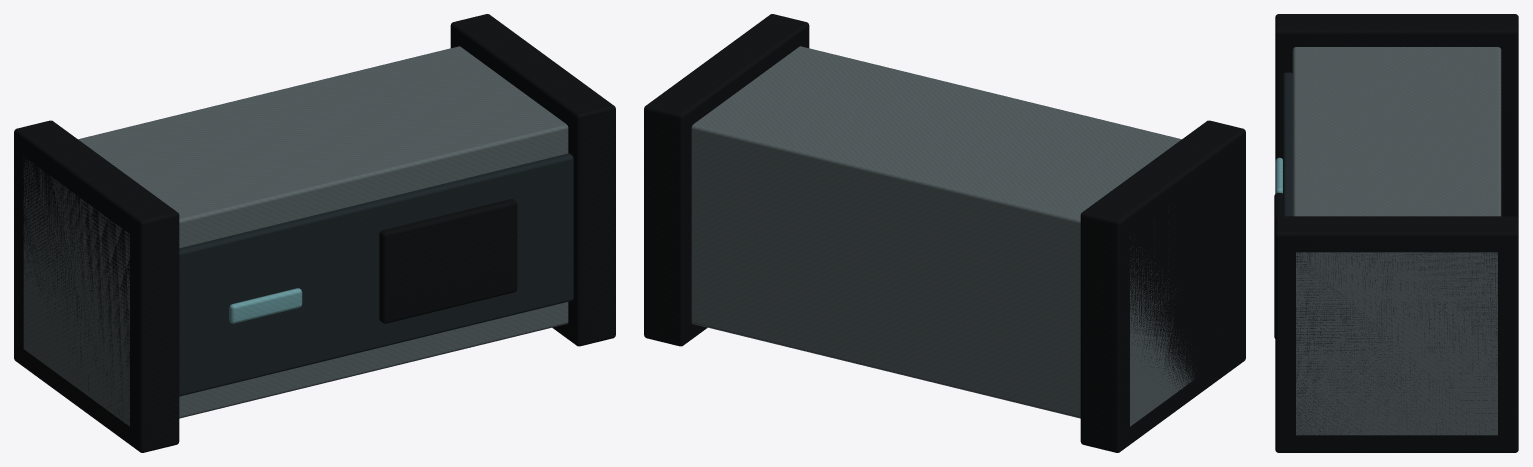
Rendered from VentilationDuct.fbx.
3 renders of one model, left to right at view 1: azimuth 30°, elevation 25°; view 2: azimuth 150°, elevation 25°; view 3: azimuth 270°, elevation 25°, orthographic. The views are drawn at different scales.
Parts seen in each view (by area): view 1: VentilationDuct_Mesh; view 2: VentilationDuct_Mesh; view 3: VentilationDuct_Mesh.
Boxes of the visible parts, x1,y1,x2,y2 form: VentilationDuct_Mesh: [14, 14, 615, 452]; VentilationDuct_Mesh: [644, 14, 1245, 452]; VentilationDuct_Mesh: [1274, 14, 1518, 452].
Size of the model in its own units: 120 by 56 by 56.25.
4 materials, 4 textured.
